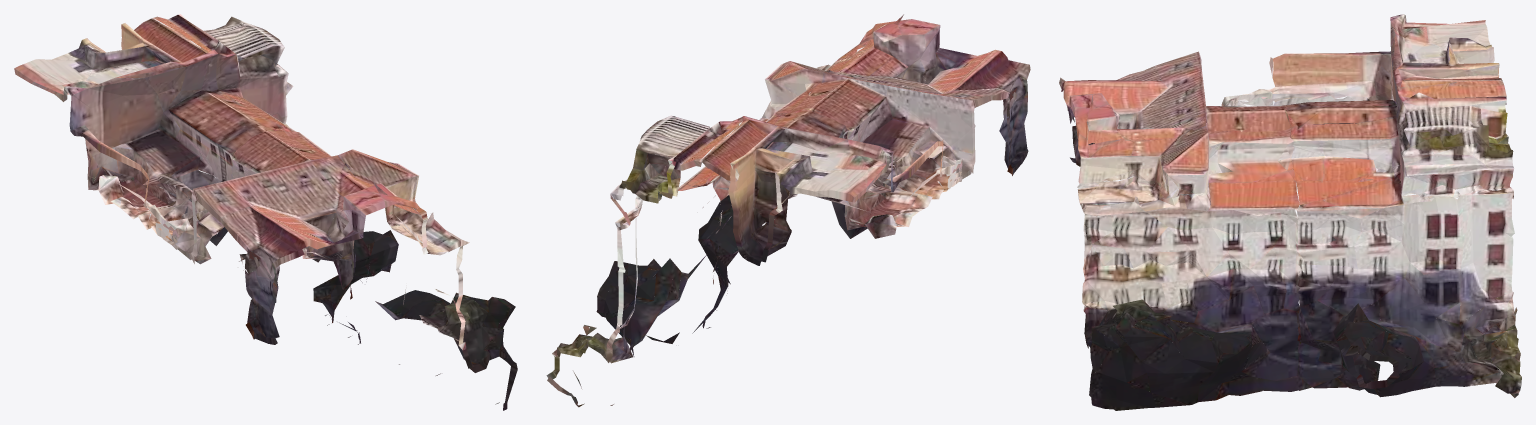
3 views of the same model, side by side, from view 1: azimuth 30°, elevation 25°; view 2: azimuth 150°, elevation 25°; view 3: azimuth 270°, elevation 25° (orthographic). The views are drawn at different scales.
Parts seen in each view (by area): view 1: Mesh_0; view 2: Mesh_0; view 3: Mesh_0.
Boxes of the visible parts, bbox=[...] form: Mesh_0: bbox=[14, 14, 517, 410]; Mesh_0: bbox=[546, 14, 1030, 407]; Mesh_0: bbox=[1059, 14, 1521, 410].
Bounding box in the file's own units: 30.99 × 26.31 × 41.35.
Materials: 2 (2 with a texture image).
